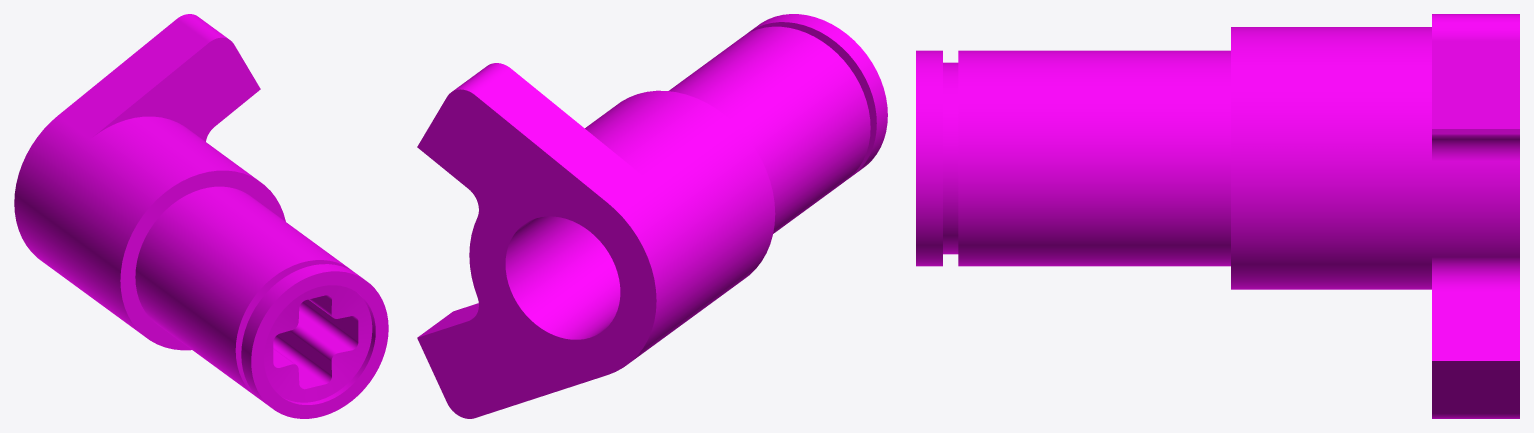
The model's file is Cylinderspindlehub8800.gltf.
3 views of the same model, side by side, from view 1: azimuth 30°, elevation 25°; view 2: azimuth 150°, elevation 25°; view 3: azimuth 270°, elevation 25° (orthographic). The views are drawn at different scales.
Parts seen in each view (by area): view 1: 98-0018; view 2: 98-0018; view 3: 98-0018.
Boxes of the visible parts, <box> form: 98-0018: <box>14,14,388,418</box>; 98-0018: <box>417,14,887,418</box>; 98-0018: <box>916,14,1519,418</box>.
Bounding box in the file's own units: 0.0183 × 0.0239 × 0.0328.
